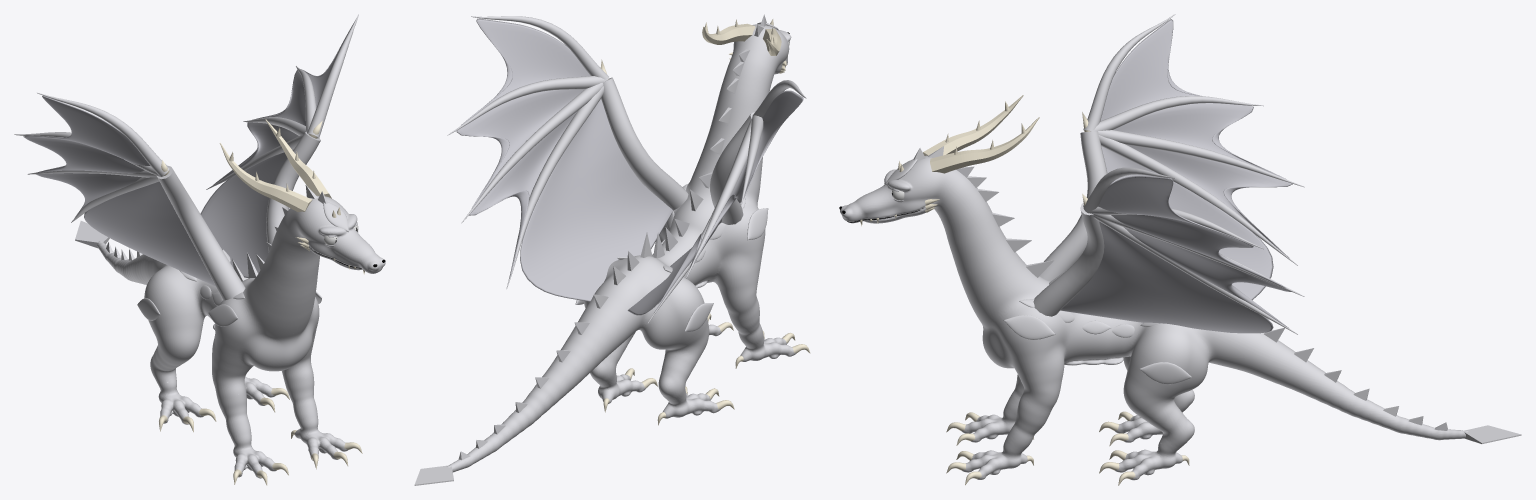
The model's file is dragon_classique_adulte.fbx.
The picture shows the model from 3 angles, left to right: view 1: azimuth 30°, elevation 25°; view 2: azimuth 150°, elevation 25°; view 3: azimuth 270°, elevation 25°; orthographic projection. The views are drawn at different scales.
Visible parts, largest first — view 1: Export_Adulte_Body, Export_Adulte_Wing_-1, Export_Adulte_Wing_1, Export_Adulte_WingBone_arm_-1, Export_Adulte_WingBone_arm_1, Export_Adulte_WingBone_f0_-1, Export_Adulte_Horn_-1, Export_Adulte_WingBone_f0_1, Export_Adulte_Horn_1, Export_Adulte_WingBone_f3_-1, Export_Adulte_WingBone_f1_1, Export_Adulte_TailTip (+5 smaller); view 2: Export_Adulte_Body, Export_Adulte_Wing_1, Export_Adulte_Wing_-1, Export_Adulte_WingBone_arm_1, Export_Adulte_WingBone_f3_1, Export_Adulte_WingBone_f2_1, Export_Adulte_WingBone_arm_-1, Export_Adulte_WingBone_f1_1, Export_Adulte_WingBone_f0_1, Export_Adulte_WingBone_f2_-1, Export_Adulte_Horn_1, Export_Adulte_WingBone_f1_-1 (+4 smaller); view 3: Export_Adulte_Body, Export_Adulte_Wing_1, Export_Adulte_Wing_-1, Export_Adulte_WingBone_arm_1, Export_Adulte_WingBone_arm_-1, Export_Adulte_WingBone_f3_-1, Export_Adulte_WingBone_f2_-1, Export_Adulte_WingBone_f1_-1, Export_Adulte_Horn_1, Export_Adulte_WingBone_f0_-1, Export_Adulte_Horn_-1, Export_Adulte_WingBone_f3_1 (+3 smaller).
Boxes of the visible parts, <box> form: Export_Adulte_Body: <box>97,195,385,478</box>; Export_Adulte_Wing_-1: <box>23,95,215,286</box>; Export_Adulte_Wing_1: <box>200,23,353,278</box>; Export_Adulte_WingBone_arm_-1: <box>157,165,245,300</box>; Export_Adulte_WingBone_arm_1: <box>266,131,320,252</box>; Export_Adulte_WingBone_f0_-1: <box>37,92,169,176</box>; Export_Adulte_Horn_-1: <box>219,143,312,211</box>; Export_Adulte_WingBone_f0_1: <box>307,14,358,138</box>; Export_Adulte_Horn_1: <box>265,119,331,198</box>; Export_Adulte_WingBone_f3_-1: <box>71,176,160,222</box>; Export_Adulte_WingBone_f1_1: <box>296,66,316,133</box>; Export_Adulte_TailTip: <box>75,221,109,248</box>; Export_Adulte_Body: <box>446,24,796,472</box>; Export_Adulte_Wing_1: <box>456,18,673,301</box>; Export_Adulte_Wing_-1: <box>627,90,803,315</box>; Export_Adulte_WingBone_arm_1: <box>601,77,688,210</box>; Export_Adulte_WingBone_f3_1: <box>506,86,604,288</box>; Export_Adulte_WingBone_f2_1: <box>461,81,604,223</box>; Export_Adulte_WingBone_arm_-1: <box>710,112,754,224</box>; Export_Adulte_WingBone_f1_1: <box>447,76,607,135</box>; Export_Adulte_WingBone_f0_1: <box>471,16,608,79</box>; Export_Adulte_WingBone_f2_-1: <box>686,119,751,278</box>; Export_Adulte_Horn_1: <box>702,23,755,44</box>; Export_Adulte_WingBone_f1_-1: <box>740,115,763,206</box>; Export_Adulte_Body: <box>840,155,1468,480</box>; Export_Adulte_Wing_1: <box>1060,176,1291,333</box>; Export_Adulte_Wing_-1: <box>1100,19,1292,300</box>; Export_Adulte_WingBone_arm_1: <box>1033,203,1104,316</box>; Export_Adulte_WingBone_arm_-1: <box>1040,131,1107,281</box>; Export_Adulte_WingBone_f3_-1: <box>1098,135,1297,265</box>; Export_Adulte_WingBone_f2_-1: <box>1098,130,1304,187</box>; Export_Adulte_WingBone_f1_-1: <box>1092,96,1263,131</box>; Export_Adulte_Horn_1: <box>930,117,1039,173</box>; Export_Adulte_WingBone_f0_-1: <box>1083,14,1175,131</box>; Export_Adulte_Horn_-1: <box>923,95,1023,155</box>; Export_Adulte_WingBone_f3_1: <box>1087,212,1297,334</box>.
Bounding box in the file's own units: 591 × 600 × 1039.
